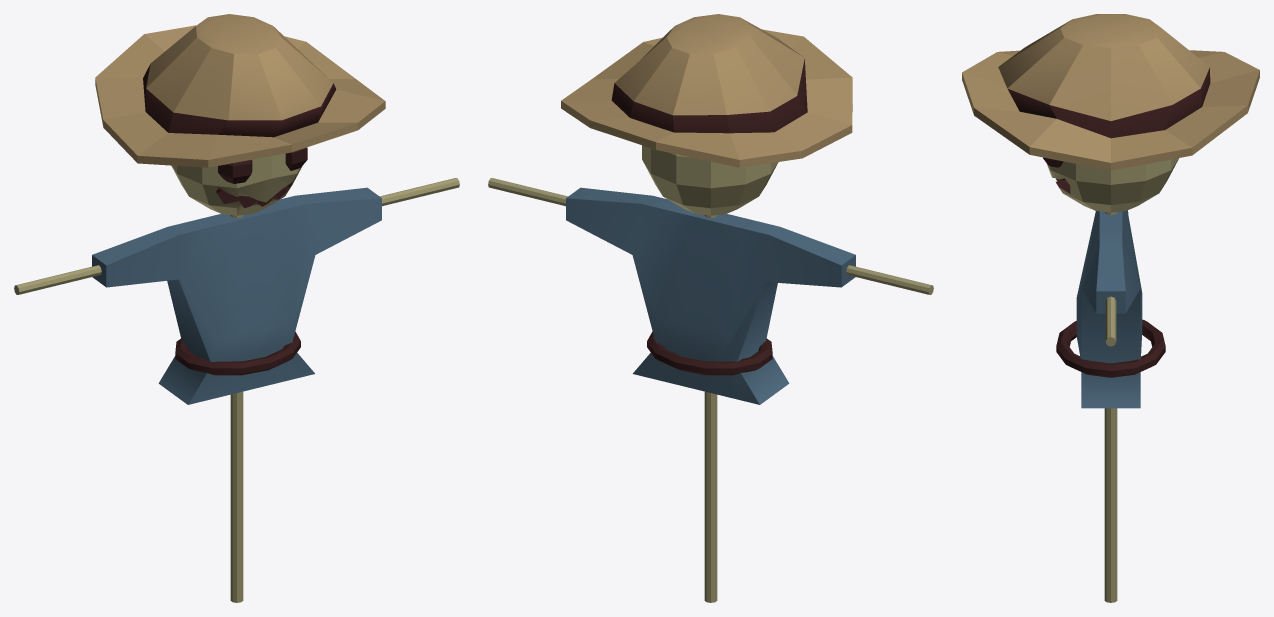
Rendered from scarecrow.fbx.
3 renders of one model, left to right at view 1: azimuth 30°, elevation 25°; view 2: azimuth 150°, elevation 25°; view 3: azimuth 270°, elevation 25°, orthographic.
Visible parts, largest first — view 1: body1; view 2: body1; view 3: body1.
Boxes of the visible parts, x1=… form: body1: x1=14, y1=14, x2=459, y2=602; body1: x1=488, y1=14, x2=933, y2=602; body1: x1=962, y1=14, x2=1259, y2=602.
Size of the model in its own units: 6.61 by 8.15 by 3.84.
